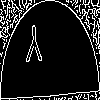Y: (25, 24, 43, 71)
